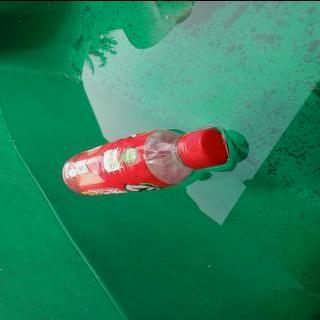bottle: (61, 127, 229, 195)
